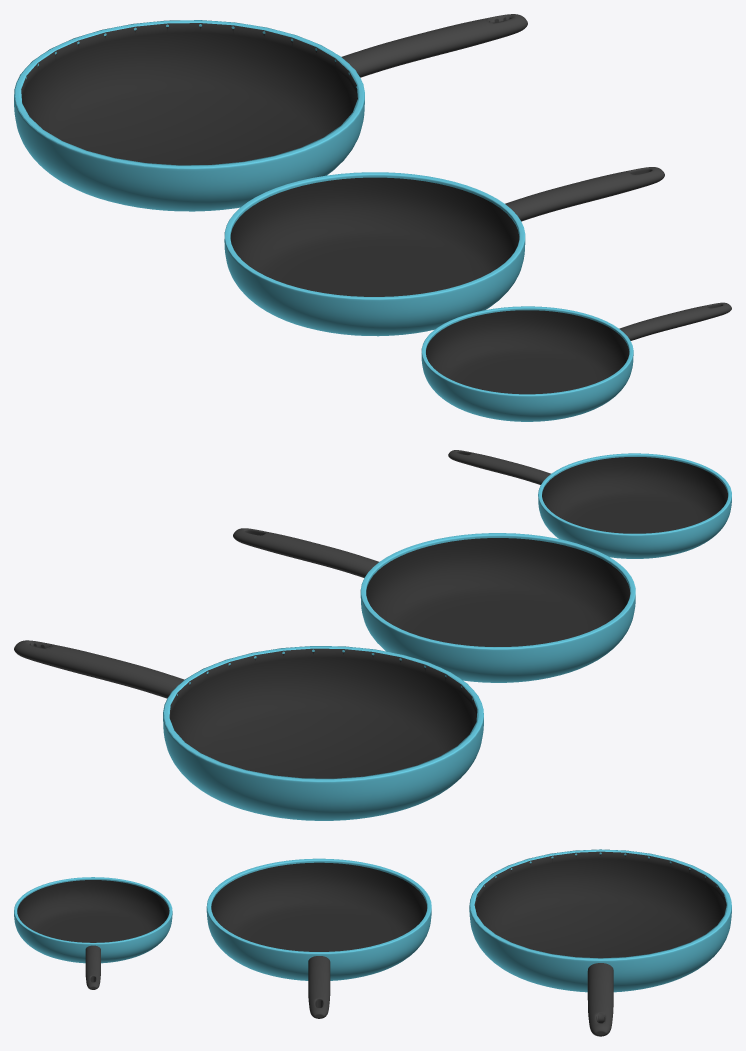
File: Large Pan Collision Mesh.fbx
3 renders of one model, top to bottom at view 1: azimuth 30°, elevation 25°; view 2: azimuth 150°, elevation 25°; view 3: azimuth 270°, elevation 25°, orthographic. The views are drawn at different scales.
Visible parts, largest first — view 1: Medium Pan, Large Pan.001, Small Pan, Large Pan; view 2: Medium Pan, Large Pan.001, Small Pan, Large Pan; view 3: Medium Pan, Large Pan.001, Small Pan, Large Pan.
Part boxes in pixels (left/top/right/bottom): Medium Pan: left=224, top=167, right=664, bottom=336; Large Pan.001: left=14, top=15, right=515, bottom=168; Small Pan: left=421, top=302, right=731, bottom=421; Large Pan: left=14, top=14, right=527, bottom=211; Medium Pan: left=233, top=528, right=635, bottom=682; Large Pan.001: left=26, top=641, right=483, bottom=781; Small Pan: left=448, top=450, right=731, bottom=558; Large Pan: left=14, top=640, right=483, bottom=820; Medium Pan: left=206, top=858, right=431, bottom=1018; Large Pan.001: left=469, top=849, right=731, bottom=1034; Small Pan: left=14, top=877, right=172, bottom=989; Large Pan: left=469, top=849, right=731, bottom=1036.
Size of the model in its own units: 312 by 37.68 by 533.
